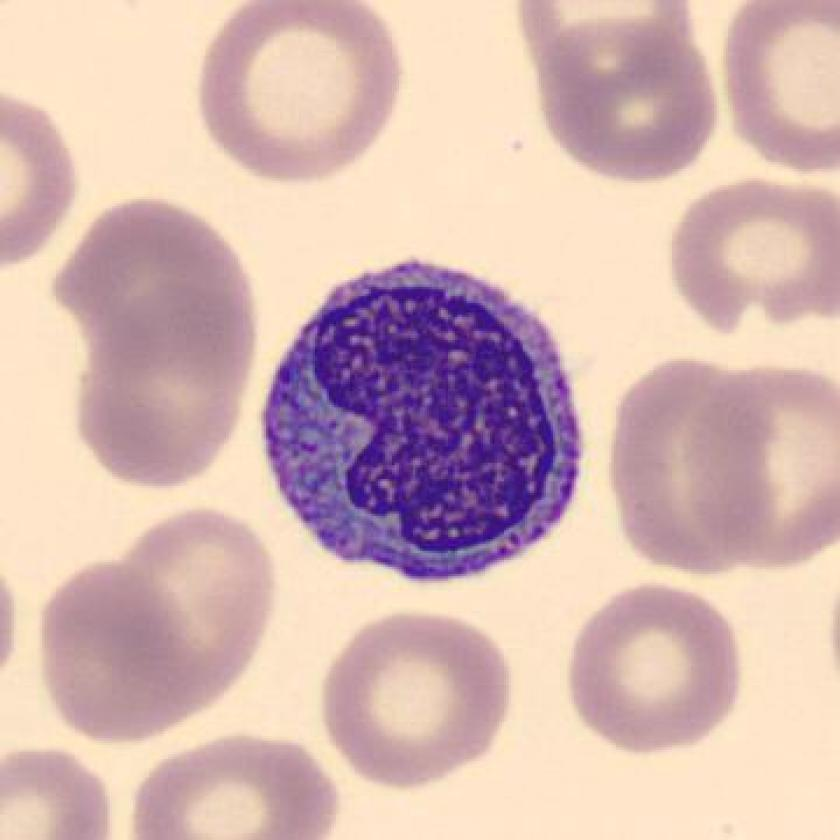monocyte: (244, 239, 605, 603)
